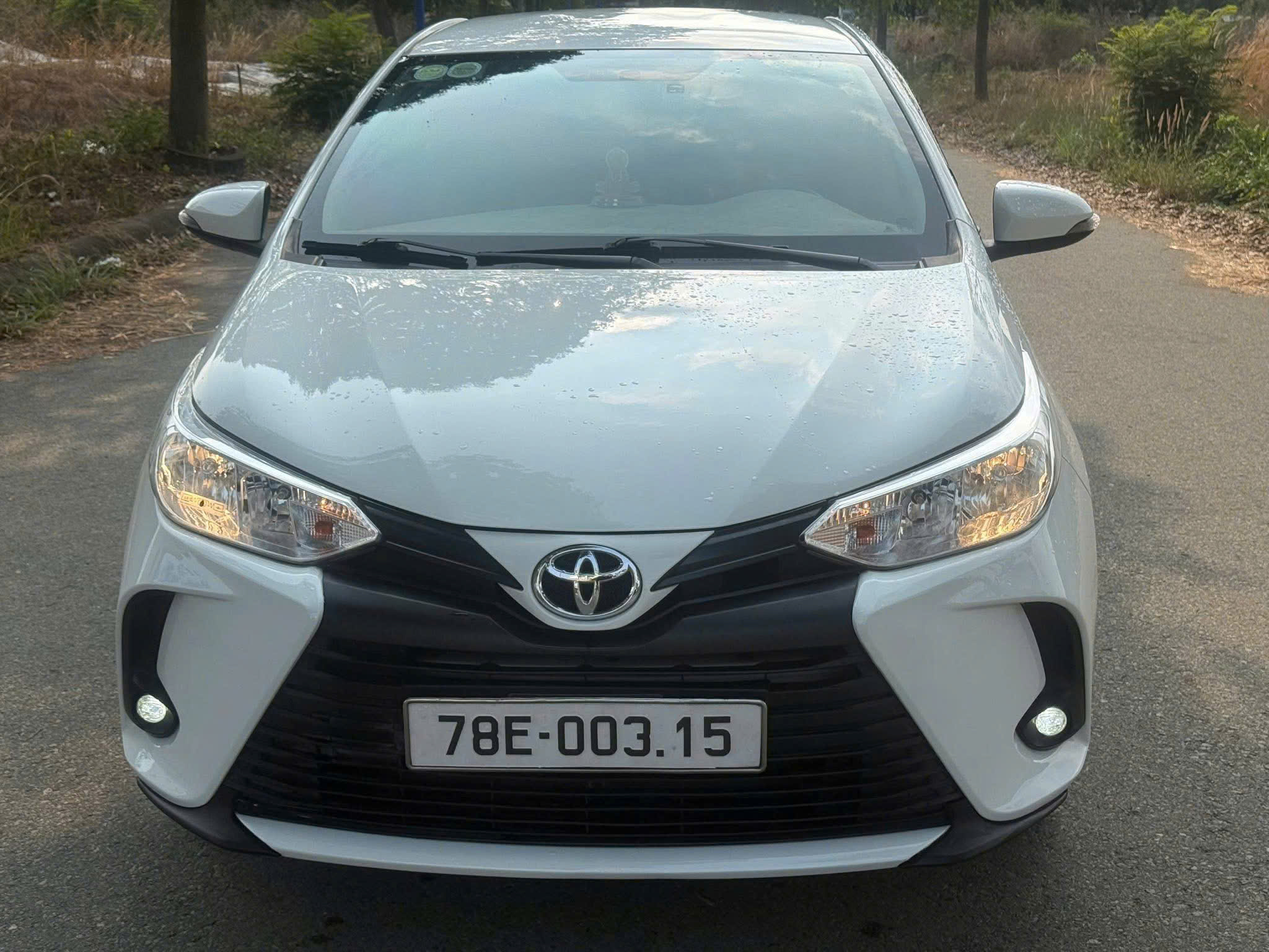Bien-so: (413, 699, 765, 770)
